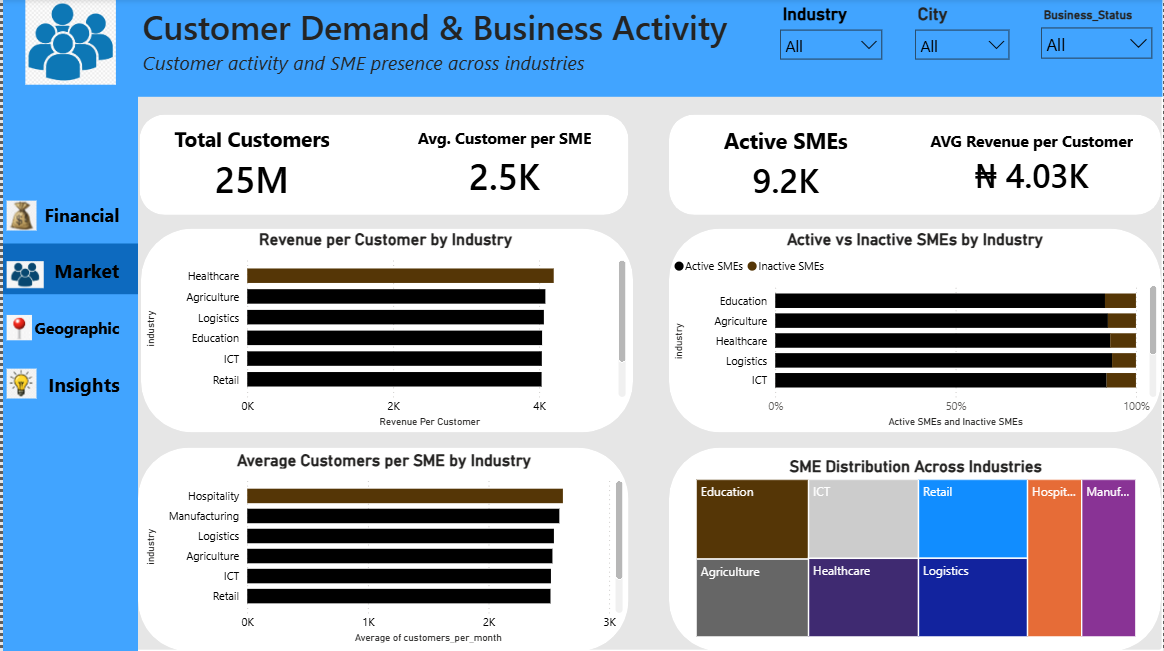

What the dashboard file says about the page in this screenshot:
{"tool":"powerbi","page":{"name":"Market  Demand & Business Activity ","canvas":[1280,720],"ordinal":1},"visuals":[{"type":"group","id":"g1","title":"Charts","box":[149.7,127,1130.3,592.6],"z":0},{"type":"clusteredBarChart","title":"Revenue per Customer by Industry","fields":{"Category":["Nigeria_SME_Dataset.industry"],"Y":["Nigeria_SME_Dataset.Revenue Per Customer"]},"box":[152.4,255.6,540,222],"z":1000},{"type":"clusteredBarChart","title":"Average Customers per SME by Industry ","fields":{"Category":["Nigeria_SME_Dataset.industry"],"Y":["Avg(Nigeria_SME_Dataset.customers_per_month)"]},"box":[152.4,498.6,536.7,217],"z":2000},{"type":"hundredPercentStackedBarChart","title":"Active vs Inactive SMEs by Industry ","fields":{"Category":["Nigeria_SME_Dataset.industry"],"Y":["Nigeria_SME_Dataset.Active SMEs","Nigeria_SME_Dataset.Inactive SMEs"]},"box":[735.5,255.6,543.3,222],"z":3000},{"type":"treemap","title":"SME Distribution Across Industries","fields":{"Group":["Nigeria_SME_Dataset.industry"],"Values":["CountNonNull(Nigeria_SME_Dataset.business_id)"]},"box":[760.3,505.2,495.3,203.7],"z":4000},{"type":"textbox","box":[149.1,0,1131.4,107.7],"z":5000},{"type":"shape","title":"NIGERIA SME INVESTMENT DASHBOARD","box":[0,0,149.1,720.6],"z":6000},{"type":"cardVisual","title":"Total Number of SME''s","fields":{"Data":["Sum(Nigeria_SME_Dataset.customers_per_month)"]},"box":[152.4,130,245.2,104.4],"z":7000},{"type":"cardVisual","title":"Total Number of SME''s","fields":{"Data":["Avg(Nigeria_SME_Dataset.customers_per_month)"]},"box":[420.7,130,266.7,104.4],"z":8000},{"type":"cardVisual","title":"Total Number of SME''s","fields":{"Data":["Count(Nigeria_SME_Dataset.business_id)"]},"box":[748.7,130,231.9,104.4],"z":9000},{"type":"cardVisual","title":"Total Number of SME''s","fields":{"Data":["Nigeria_SME_Dataset.AVG Revenue per Customer"]},"box":[993.9,130,284.9,104.4],"z":10000},{"type":"slicer","fields":{"Values":["Nigeria_SME_Dataset.industry"]},"box":[848.1,0,132.5,112.6],"z":11000},{"type":"slicer","fields":{"Values":["Nigeria_SME_Dataset.business_status"]},"box":[1136.3,5,142.5,82.8],"z":12000},{"type":"slicer","fields":{"Values":["Nigeria_SME_Dataset.city"]},"box":[996.4,0,124.2,112.6],"z":13000},{"type":"actionButton","box":[0.6,218.7,132.5,39.8],"z":14000},{"type":"shape","box":[152.5,252.8,543.3,225.3],"z":14000,"group":"g1"},{"type":"shape","box":[736.2,252.8,543.3,225.3],"z":15000,"group":"g1"},{"type":"shape","box":[0,270,149.1,56.3],"z":15000},{"type":"actionButton","box":[0.6,280.6,132.5,39.8],"z":16000},{"type":"shape","box":[149.7,494.3,541.7,225.3],"z":16000,"group":"g1"},{"type":"actionButton","box":[0.6,342.5,132.5,39.8],"z":17000},{"type":"shape","box":[736.2,494.3,543.3,225.3],"z":17000,"group":"g1"},{"type":"shape","box":[151.6,127.7,540,111],"z":17500,"group":"g1"},{"type":"image","box":[0,0,149.1,94.4],"z":18000},{"type":"shape","box":[736.7,127,543.3,111],"z":18000,"group":"g1"},{"type":"actionButton","box":[0.3,404.4,132.9,40.4],"z":19000}]}

Visuals, with their boxes on the page's 1280x720 design canvas (x1, y1, x2, y2). These are canvas units, not pixel positions in the 1164x651 screenshot, which may show the page scaled, cropped or inside an application window:
"Charts" group: box(150, 127, 1280, 720)
"Revenue per Customer by Industry" clusteredBarChart: box(152, 256, 692, 478)
"Average Customers per SME by Industry " clusteredBarChart: box(152, 499, 689, 716)
"Active vs Inactive SMEs by Industry " hundredPercentStackedBarChart: box(736, 256, 1279, 478)
"SME Distribution Across Industries" treemap: box(760, 505, 1256, 709)
textbox: box(149, 0, 1280, 108)
"NIGERIA SME INVESTMENT DASHBOARD" shape: box(0, 0, 149, 721)
"Total Number of SME''s" cardVisual: box(152, 130, 398, 234)
"Total Number of SME''s" cardVisual: box(421, 130, 687, 234)
"Total Number of SME''s" cardVisual: box(749, 130, 981, 234)
"Total Number of SME''s" cardVisual: box(994, 130, 1279, 234)
slicer - Nigeria_SME_Dataset.industry: box(848, 0, 981, 113)
slicer - Nigeria_SME_Dataset.business_status: box(1136, 5, 1279, 88)
slicer - Nigeria_SME_Dataset.city: box(996, 0, 1121, 113)
actionButton: box(1, 219, 133, 258)
shape: box(152, 253, 696, 478)
shape: box(736, 253, 1280, 478)
shape: box(0, 270, 149, 326)
actionButton: box(1, 281, 133, 320)
shape: box(150, 494, 691, 720)
actionButton: box(1, 342, 133, 382)
shape: box(736, 494, 1280, 720)
shape: box(152, 128, 692, 239)
image: box(0, 0, 149, 94)
shape: box(737, 127, 1280, 238)
actionButton: box(0, 404, 133, 445)
